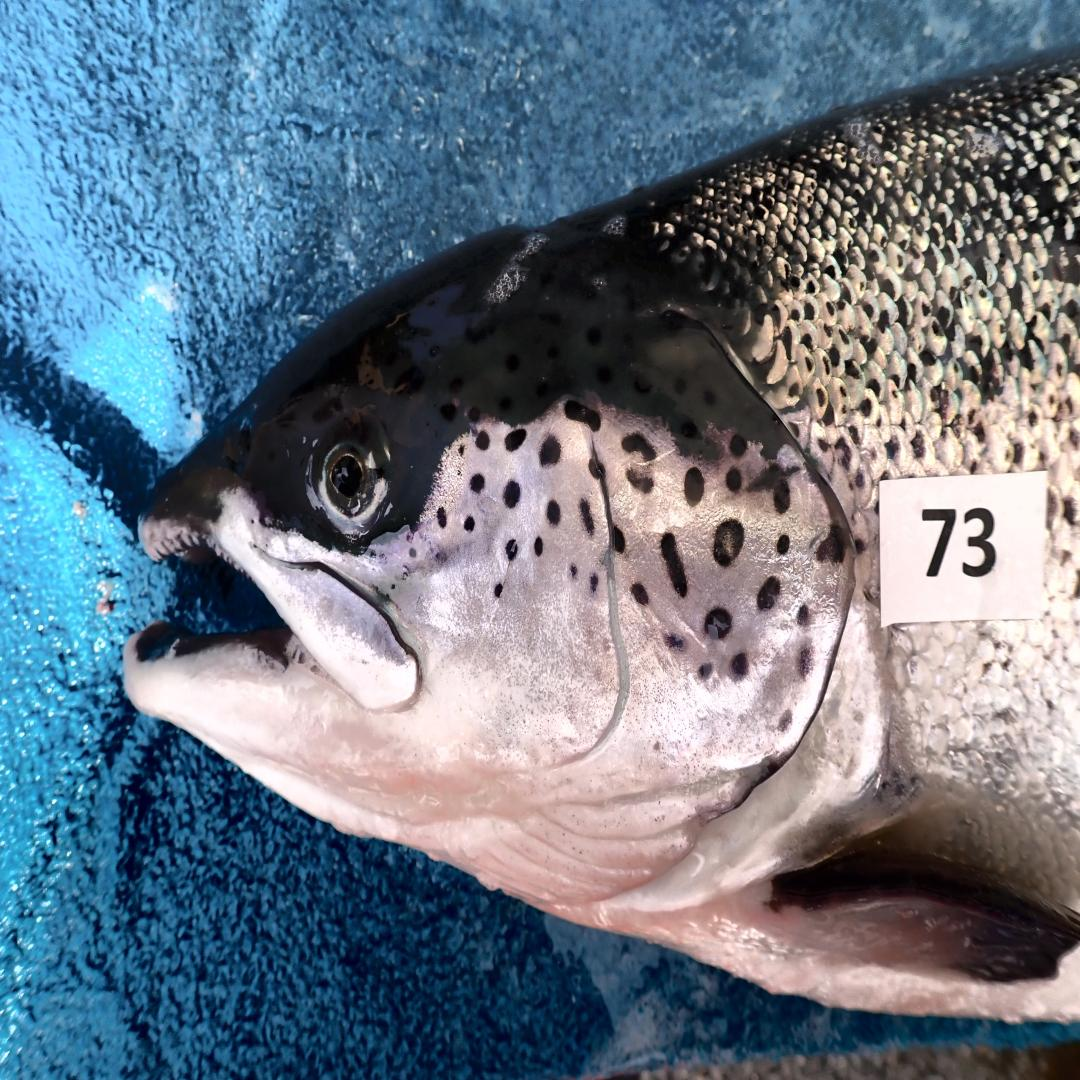spot: (660, 532, 688, 596), (713, 518, 745, 565), (816, 526, 846, 564), (565, 399, 601, 430), (622, 433, 656, 461), (683, 467, 705, 506), (705, 608, 732, 639), (757, 577, 780, 610), (626, 467, 654, 492), (539, 436, 561, 467), (773, 478, 791, 515), (730, 652, 749, 681), (580, 498, 595, 534), (504, 428, 527, 450), (503, 481, 521, 509), (798, 647, 813, 679), (631, 582, 650, 606), (665, 633, 688, 652), (726, 467, 742, 492), (546, 501, 561, 526), (730, 434, 747, 456), (613, 526, 626, 554), (680, 420, 699, 439), (797, 603, 811, 628), (697, 661, 713, 681), (777, 711, 793, 731), (470, 472, 485, 492), (476, 430, 489, 450), (776, 534, 789, 554), (588, 460, 601, 479), (437, 506, 447, 529), (506, 540, 517, 560), (534, 537, 544, 557), (589, 574, 599, 593), (464, 515, 475, 532), (568, 564, 578, 581), (494, 582, 504, 598), (436, 553, 447, 563), (458, 444, 464, 456), (409, 548, 416, 558), (370, 550, 376, 557), (391, 585, 396, 590)
